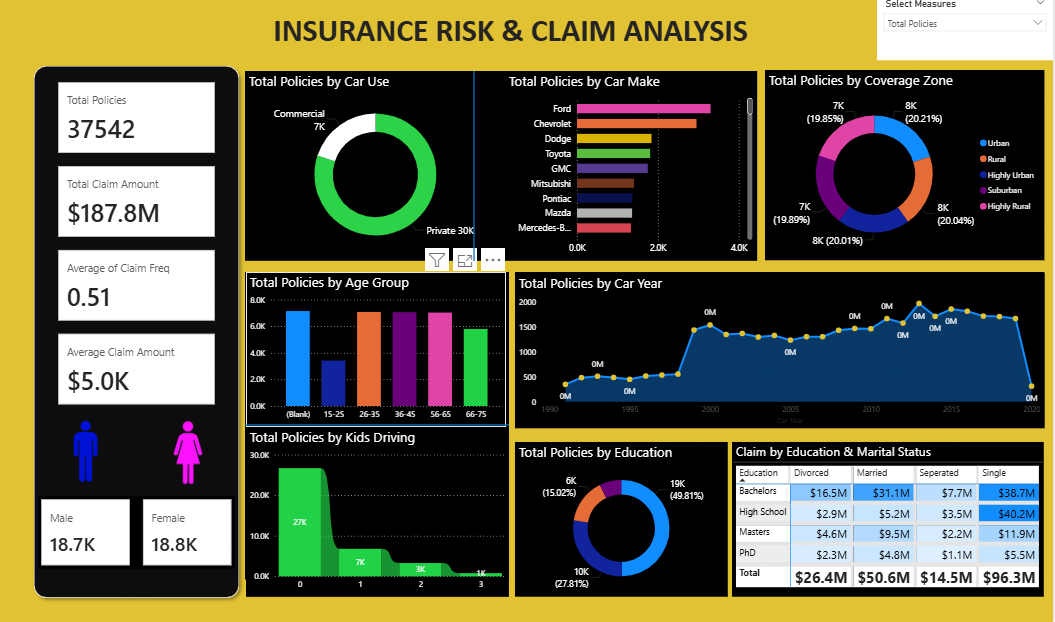

The dashboard page shown, as its layout file describes it:
{"tool":"powerbi","page":{"name":"Page 1","canvas":[1600,950],"ordinal":0},"visuals":[{"type":"textbox","box":[404.5,18.2,747,97],"z":0},{"type":"shape","box":[47.5,98.8,328.8,823.8],"z":1000},{"type":"cardVisual","fields":{"Data":["insurance_data_car.Total Policies","insurance_data_car.Total Claim Amount","Avg(insurance_data_car.Claim Freq)","insurance_data_car.Average Claim Amount"]},"box":[88.3,127.1,248,500.6],"z":2000},{"type":"cardVisual","fields":{"Data":["insurance_data_car.Male Count","insurance_data_car.Female Count"]},"box":[62.6,758.8,298.9,110.1],"z":3000},{"type":"image","box":[79.9,633.7,107.7,115.9],"z":4000},{"type":"image","box":[230.5,633.7,118.2,120.5],"z":5000},{"type":"slicer","fields":{"Values":["Select Measures.Select Measures"]},"box":[1332.8,0,266.6,99.2],"z":6000},{"type":"shape","box":[375,114.7,776.4,286.7],"z":7000},{"type":"donutChart","fields":{"Y":["insurance_data_car.Total Policies"],"Category":["insurance_data_car.Car Use"]},"box":[375,114.7,395.2,286.7],"z":8000},{"type":"clusteredBarChart","fields":{"Y":["insurance_data_car.Total Policies"],"Category":["insurance_data_car.Car Make"]},"box":[770.2,114.7,381.2,286.7],"z":9000},{"type":"donutChart","fields":{"Y":["insurance_data_car.Total Policies"],"Category":["insurance_data_car.Coverage Zone"]},"box":[1163.9,113.1,423.1,288.3],"z":10000},{"type":"shape","box":[375,420,399.8,466.5],"z":11000},{"type":"clusteredColumnChart","fields":{"Y":["insurance_data_car.Total Policies"],"Category":["insurance_data_car.Age Group"]},"box":[376.6,420,395.2,234],"z":12000},{"type":"ribbonChart","fields":{"Y":["insurance_data_car.Total Policies"],"Category":["insurance_data_car.Kids Driving"]},"box":[376.6,654,398.3,257.3],"z":13000},{"type":"shape","box":[785.5,419.4,801.7,234],"z":14000},{"type":"areaChart","fields":{"Y":["insurance_data_car.Total Policies"],"Category":["insurance_data_car.Car Year"]},"box":[785.5,420.5,801.7,235.2],"z":15000},{"type":"pieChart","fields":{"Y":["insurance_data_car.Total Policies"],"Category":["insurance_data_car.Education"]},"box":[785.5,677.7,322.1,234],"z":16000},{"type":"pivotTable","title":"Claim by Education & Marital Status","fields":{"Rows":["insurance_data_car.Education"],"Columns":["insurance_data_car.Marital Status"],"Values":["insurance_data_car.Total Claim Amount"]},"box":[1114,678,471.8,233.6],"z":17000},{"type":"shape","box":[572.5,115,300,287.5],"z":18000},{"type":"shape","box":[375,507.5,400,287.5],"z":19000}]}

Visuals, with their boxes in screenshot pixels (x1, y1, x2, y2), scaled from the page's 1600x950 canvas onto the 1055x622 screenshot:
textbox: bbox(267, 12, 759, 75)
shape: bbox(31, 65, 248, 604)
cardVisual - insurance_data_car.Total Policies x insurance_data_car.Total Claim Amount: bbox(58, 83, 222, 411)
cardVisual - insurance_data_car.Male Count x insurance_data_car.Female Count: bbox(41, 497, 238, 569)
image: bbox(53, 415, 124, 491)
image: bbox(152, 415, 230, 494)
slicer - Select Measures.Select Measures: bbox(879, 0, 1054, 65)
shape: bbox(247, 75, 759, 263)
donutChart - insurance_data_car.Total Policies x insurance_data_car.Car Use: bbox(247, 75, 508, 263)
clusteredBarChart - insurance_data_car.Total Policies x insurance_data_car.Car Make: bbox(508, 75, 759, 263)
donutChart - insurance_data_car.Total Policies x insurance_data_car.Coverage Zone: bbox(767, 74, 1046, 263)
shape: bbox(247, 275, 511, 580)
clusteredColumnChart - insurance_data_car.Total Policies x insurance_data_car.Age Group: bbox(248, 275, 509, 428)
ribbonChart - insurance_data_car.Total Policies x insurance_data_car.Kids Driving: bbox(248, 428, 511, 597)
shape: bbox(518, 275, 1047, 428)
areaChart - insurance_data_car.Total Policies x insurance_data_car.Car Year: bbox(518, 275, 1047, 429)
pieChart - insurance_data_car.Total Policies x insurance_data_car.Education: bbox(518, 444, 730, 597)
"Claim by Education & Marital Status" pivotTable: bbox(735, 444, 1046, 597)
shape: bbox(377, 75, 575, 264)
shape: bbox(247, 332, 511, 521)
